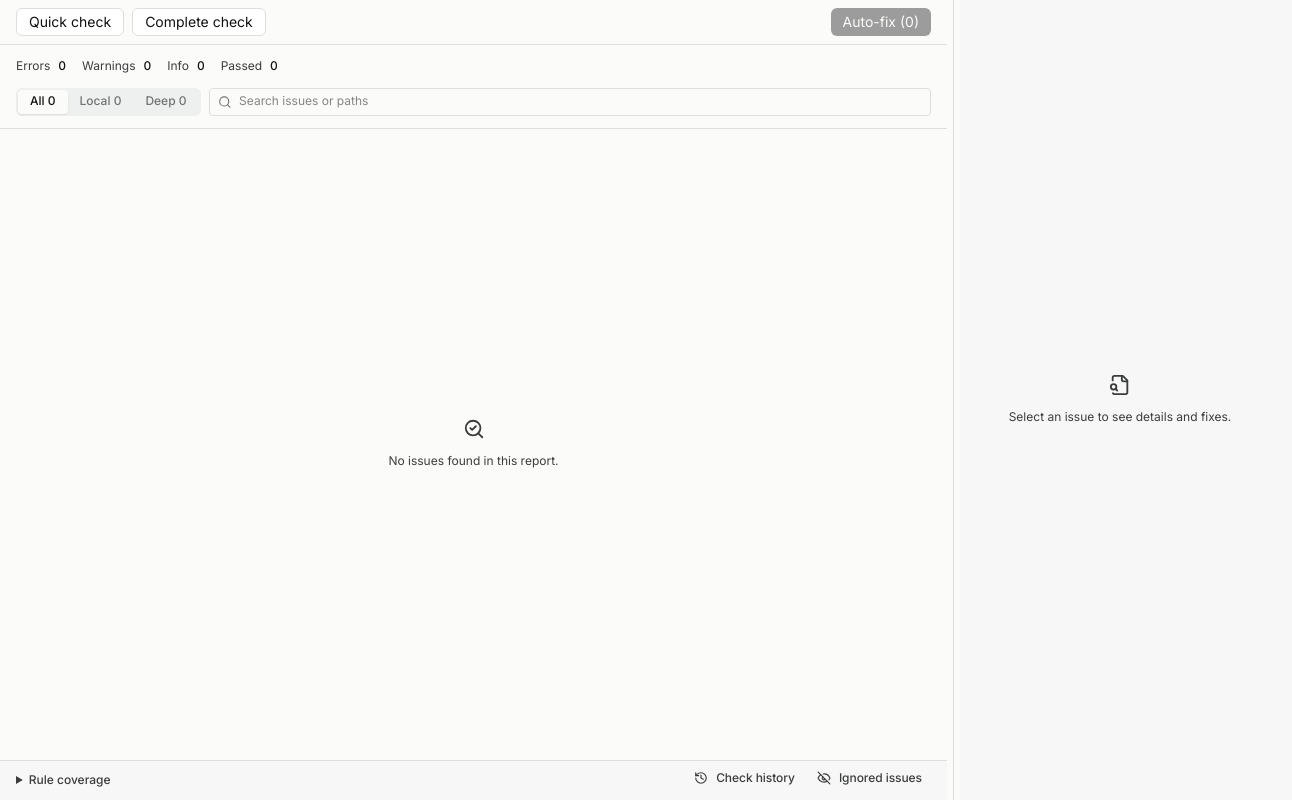
Test: LintView › discards a pending history choice when the user switches management panels
Click the button "Check history" at x=744, y=778, box [685,765,804,791]
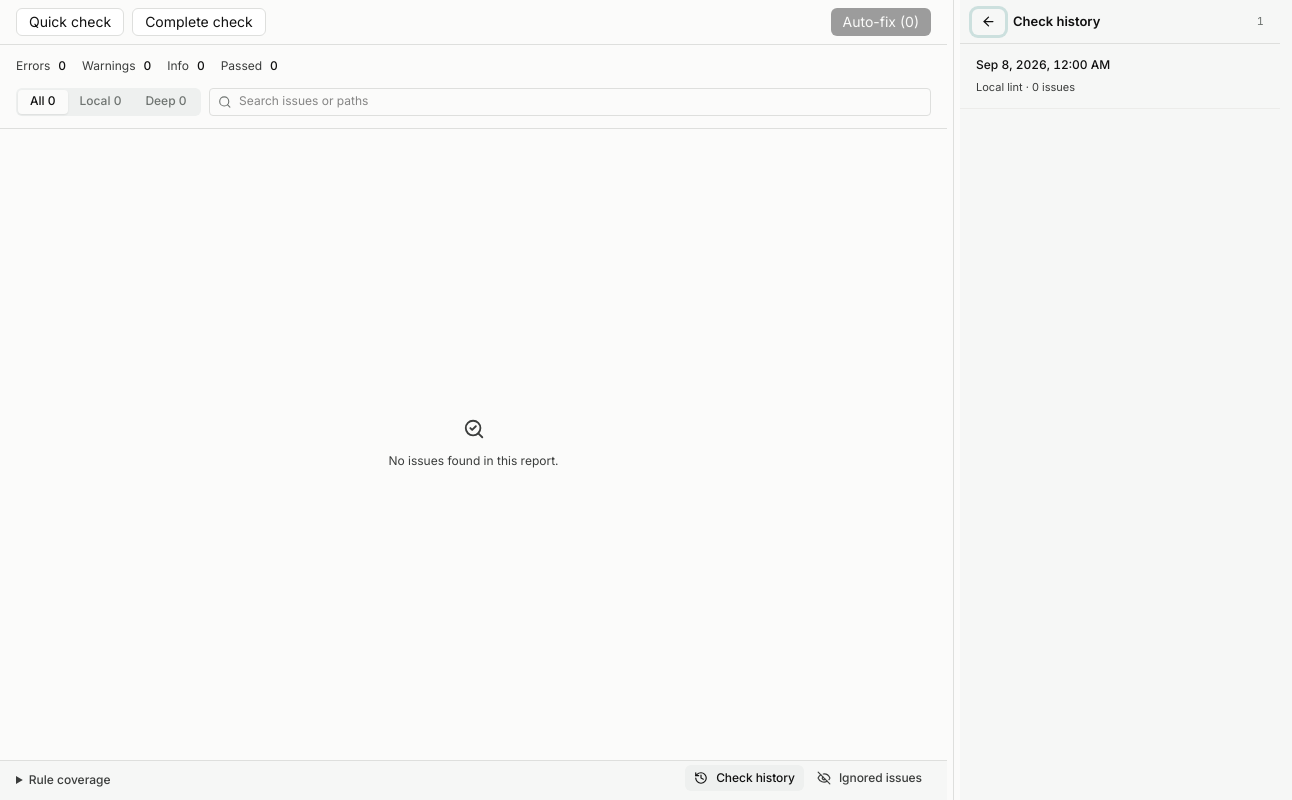
Click the button "Sep 8, 2026, 12:00 AM Local lint · 0 issues" at x=1043, y=64, box [960,44,1280,109]
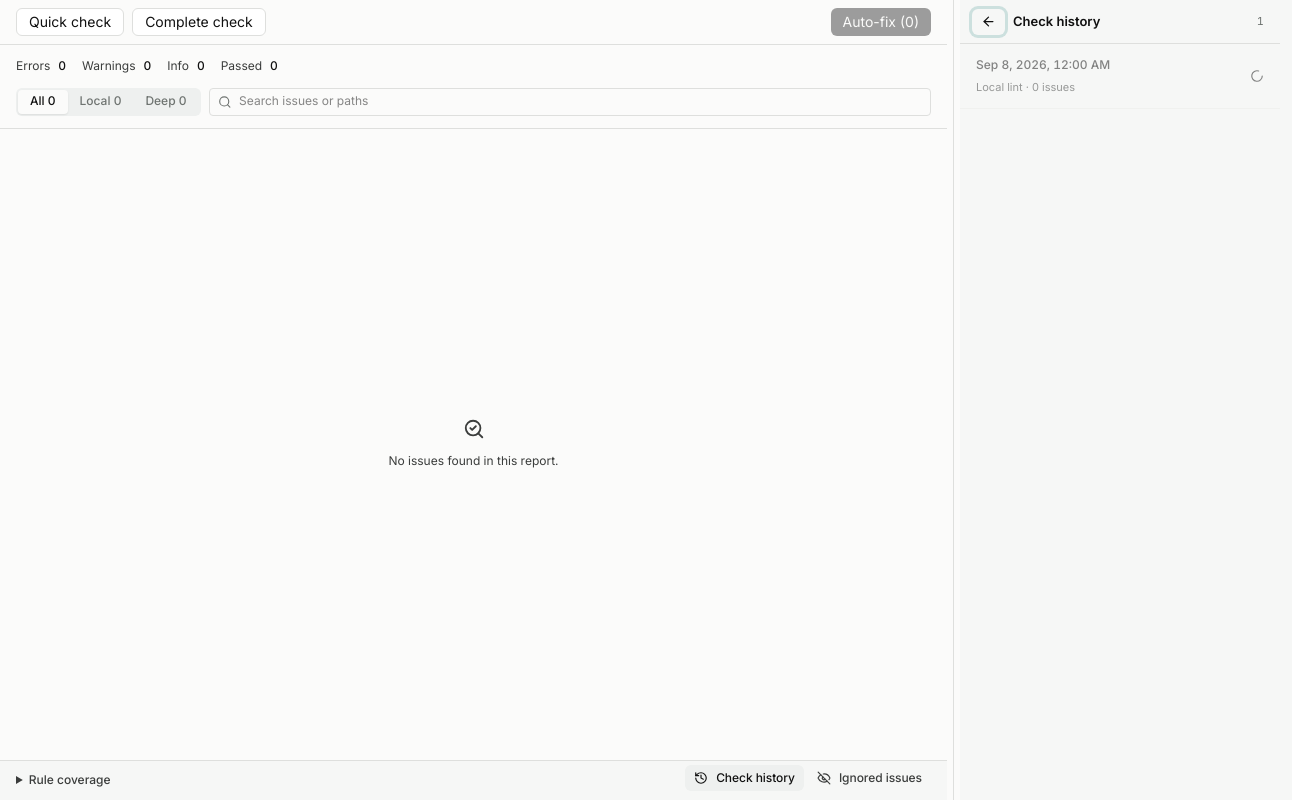
Click the button "Ignored issues" at x=869, y=778, box [808,765,931,791]
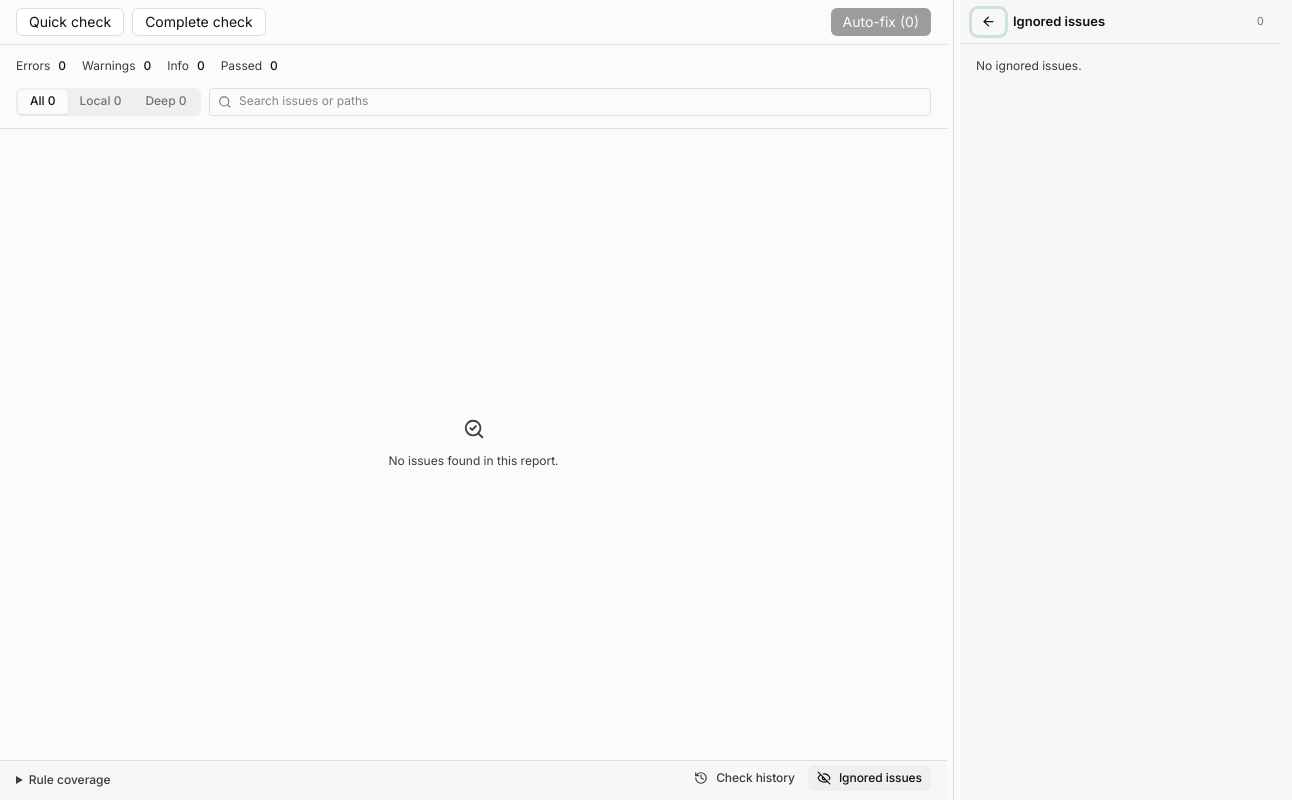
Expected: the element "Ignored issues" is shown, [960,0,1280,799]
